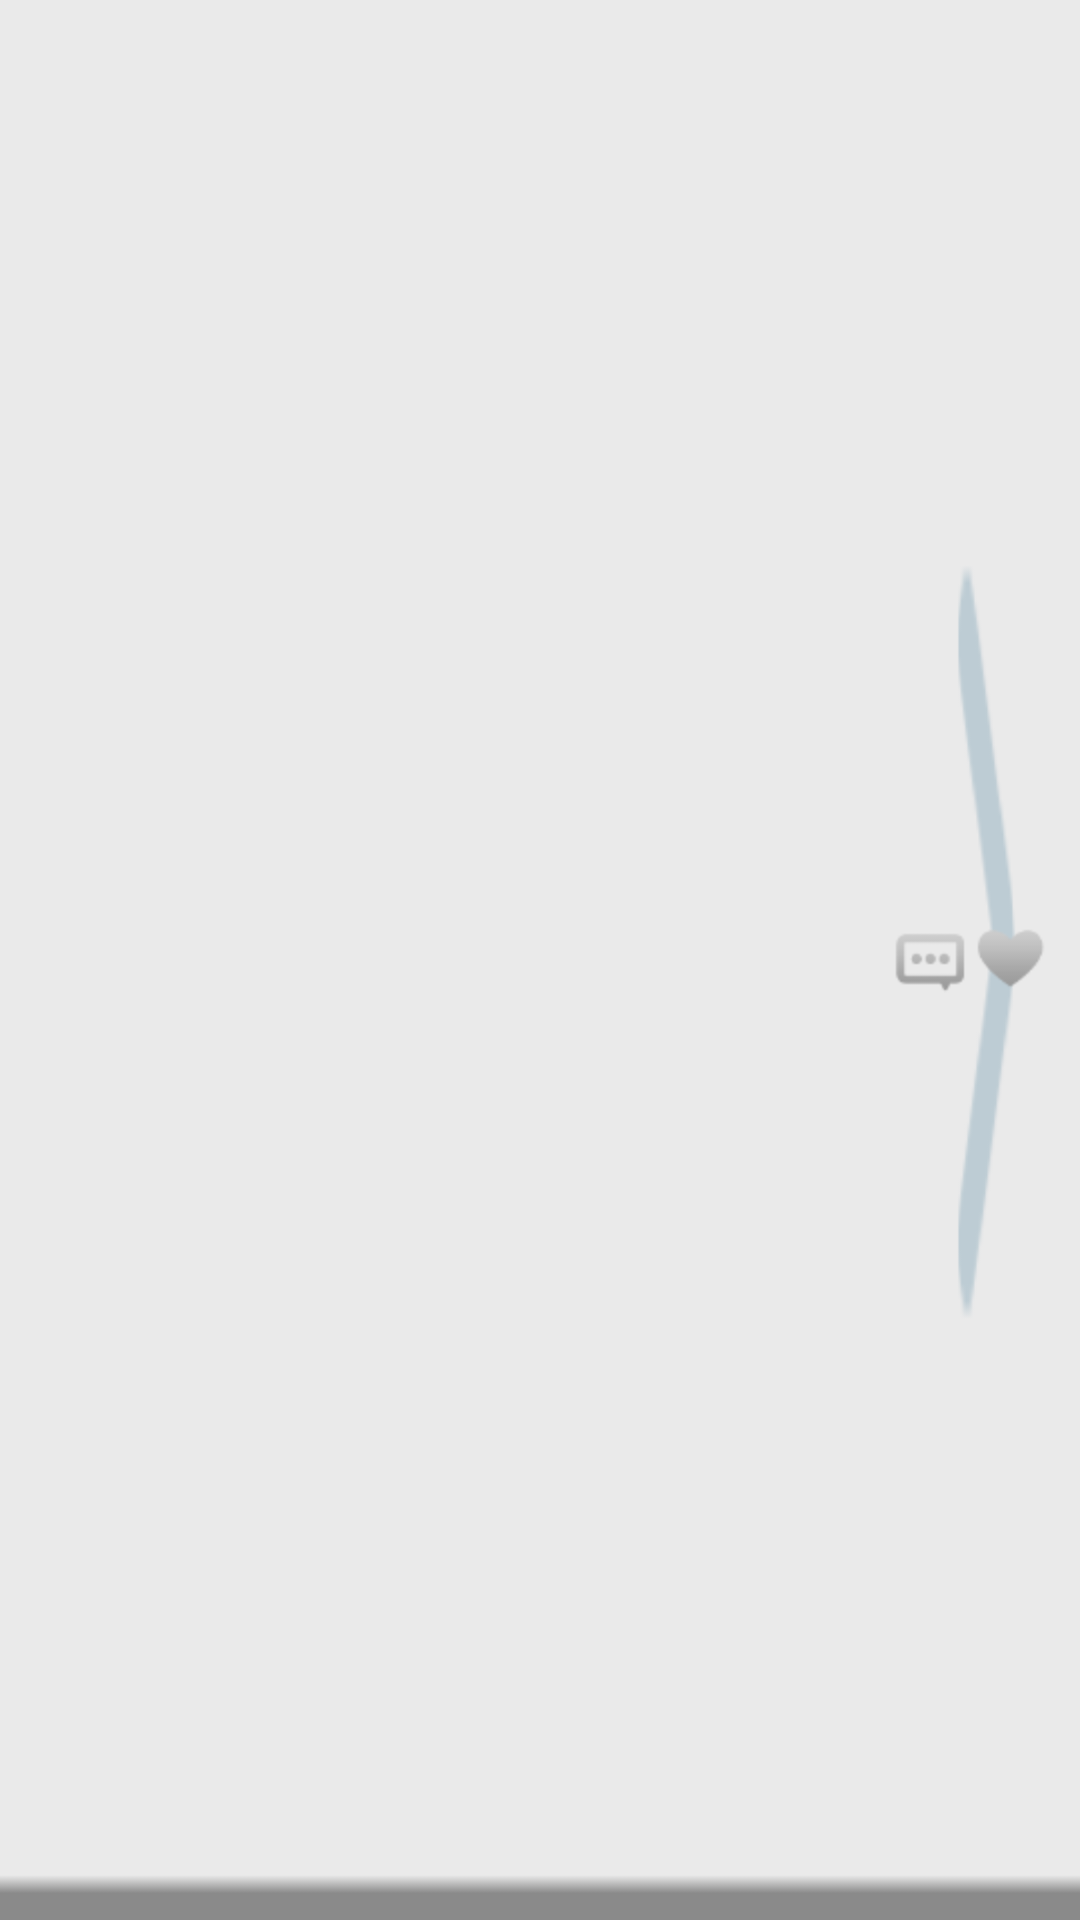

Icons on this 1080x1920 Android screen, each with the point to tap as (x,y):
chapter fav: (1010,960)
chapter more: (930,962)
